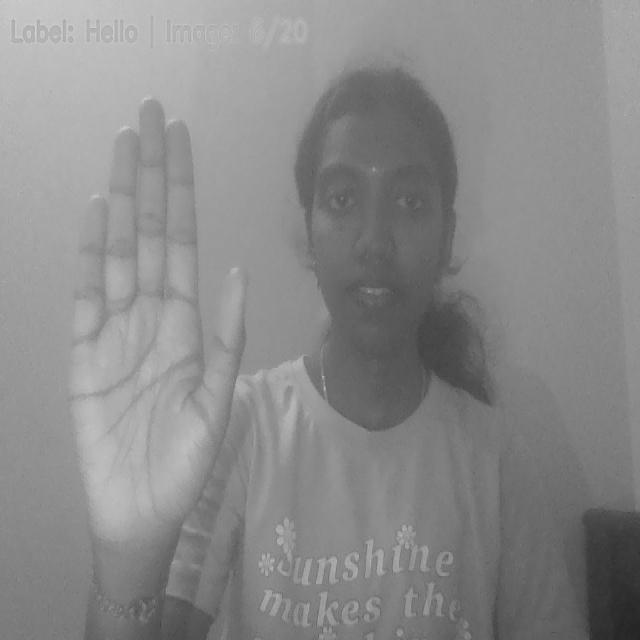Hello: (65, 92, 252, 569)
